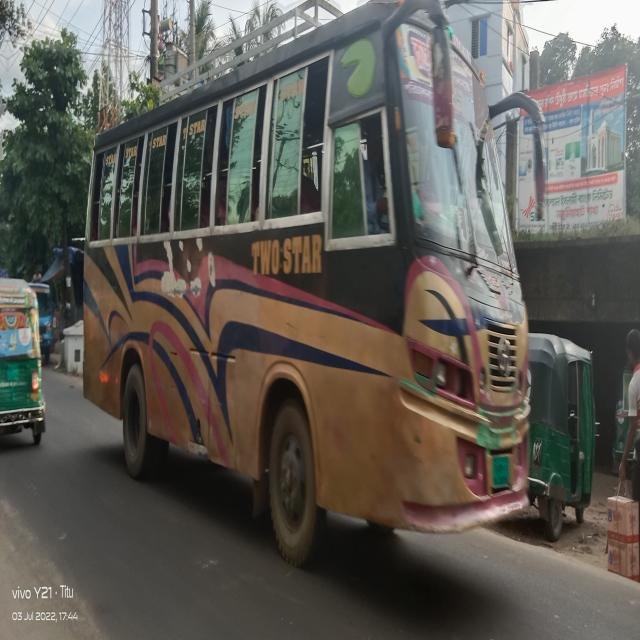bus: (74, 1, 556, 570)
